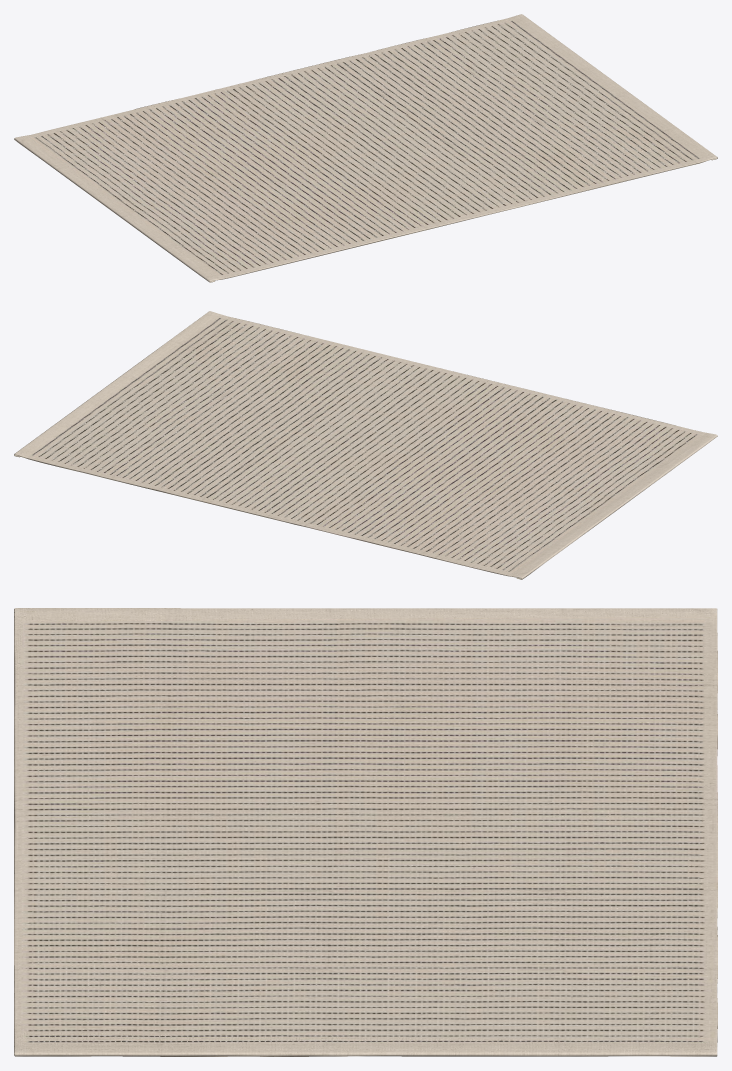
The model's file is starreklinte_rug_flatwoven_natural_black.glb.
3 views of the same model, one above another, from view 1: azimuth 30°, elevation 25°; view 2: azimuth 150°, elevation 25°; view 3: azimuth 270°, elevation 25° (orthographic). The views are drawn at different scales.
Parts seen in each view (by area): view 1: ASY_ART_20569133_S01_NV01; view 2: ASY_ART_20569133_S01_NV01; view 3: ASY_ART_20569133_S01_NV01.
Boxes of the visible parts, x1,y1,x2,y2 form: ASY_ART_20569133_S01_NV01: (14,14,717,282); ASY_ART_20569133_S01_NV01: (14,311,717,579); ASY_ART_20569133_S01_NV01: (14,608,717,1056).
Bounding box in the file's own units: 1.8 × 0.00792 × 1.2.
Materials: 1 (1 with a texture image).
